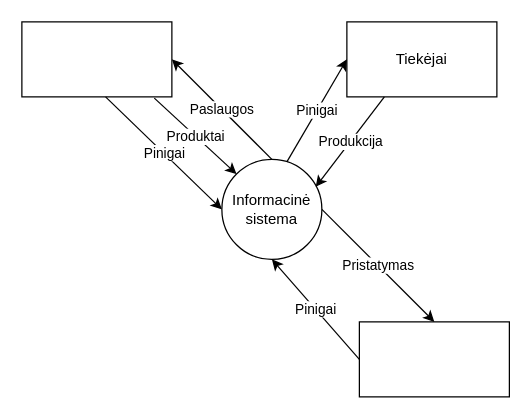
This 531x419 diagram has some shape labels left out. The shapes that lost their labels are listed below. From the top down, each one's centre as x and y in pixels, then its label:
At (x=96, y=59): "Įmonė".
At (x=433, y=359): "Klientas".
